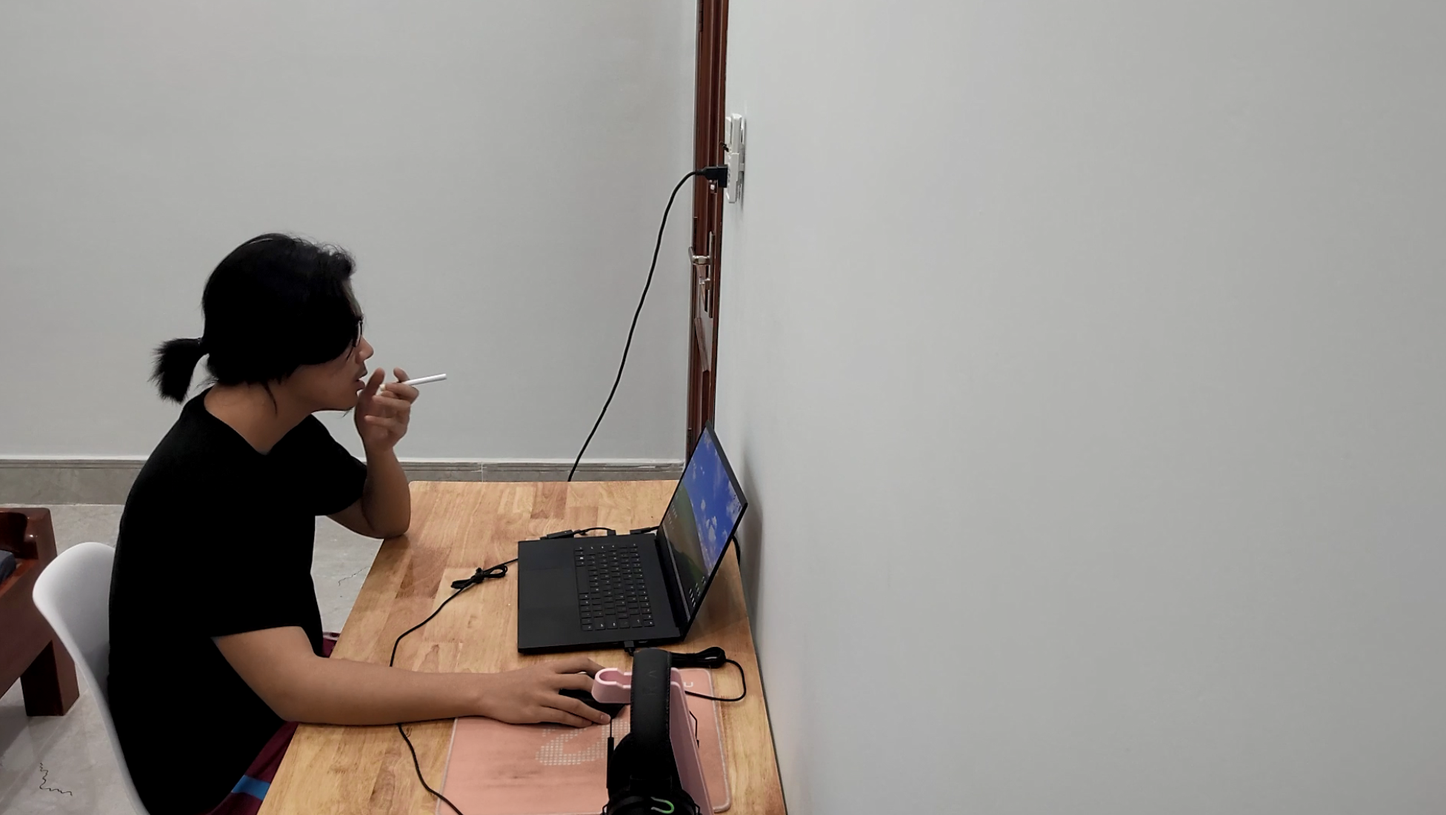cigarette: (382, 362, 451, 388)
person: (116, 202, 424, 815)
